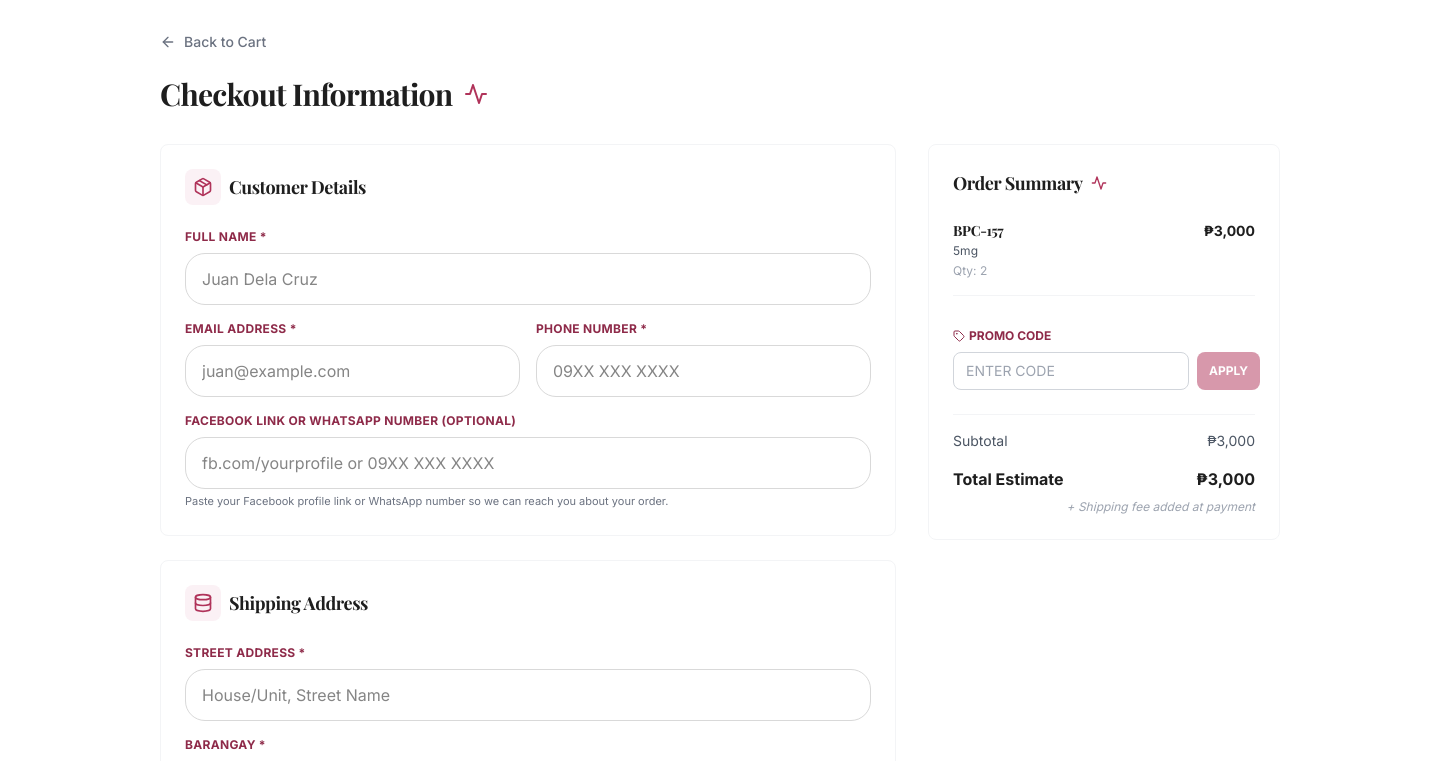
Test: Checkout › promo code › applies valid percentage promo code
The image size is (1440, 761).
Type "SAVE20" into the field with placeholder "ENTER CODE" at (1071, 371), box [953,352,1189,390]
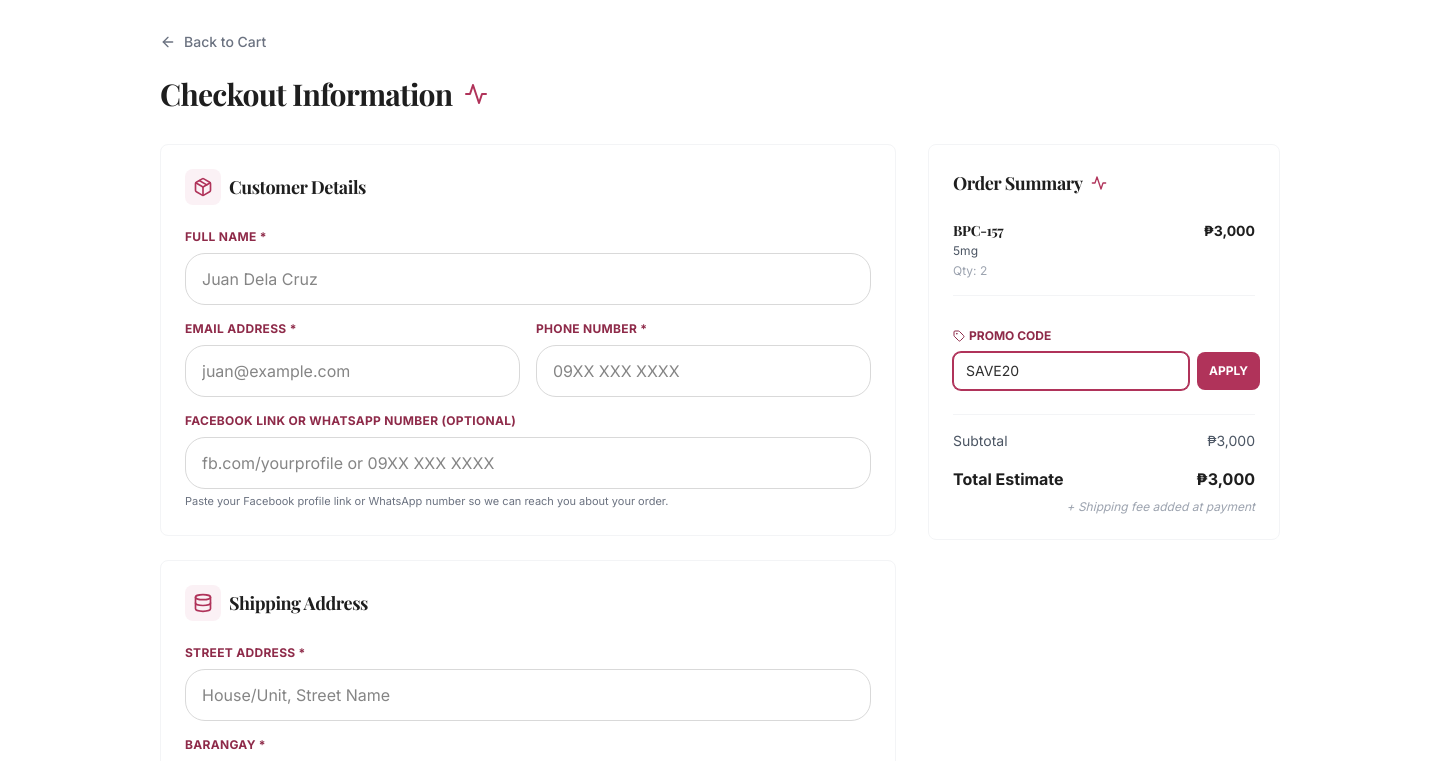
Click the button "APPLY" at (1228, 371), box [1197,352,1260,390]
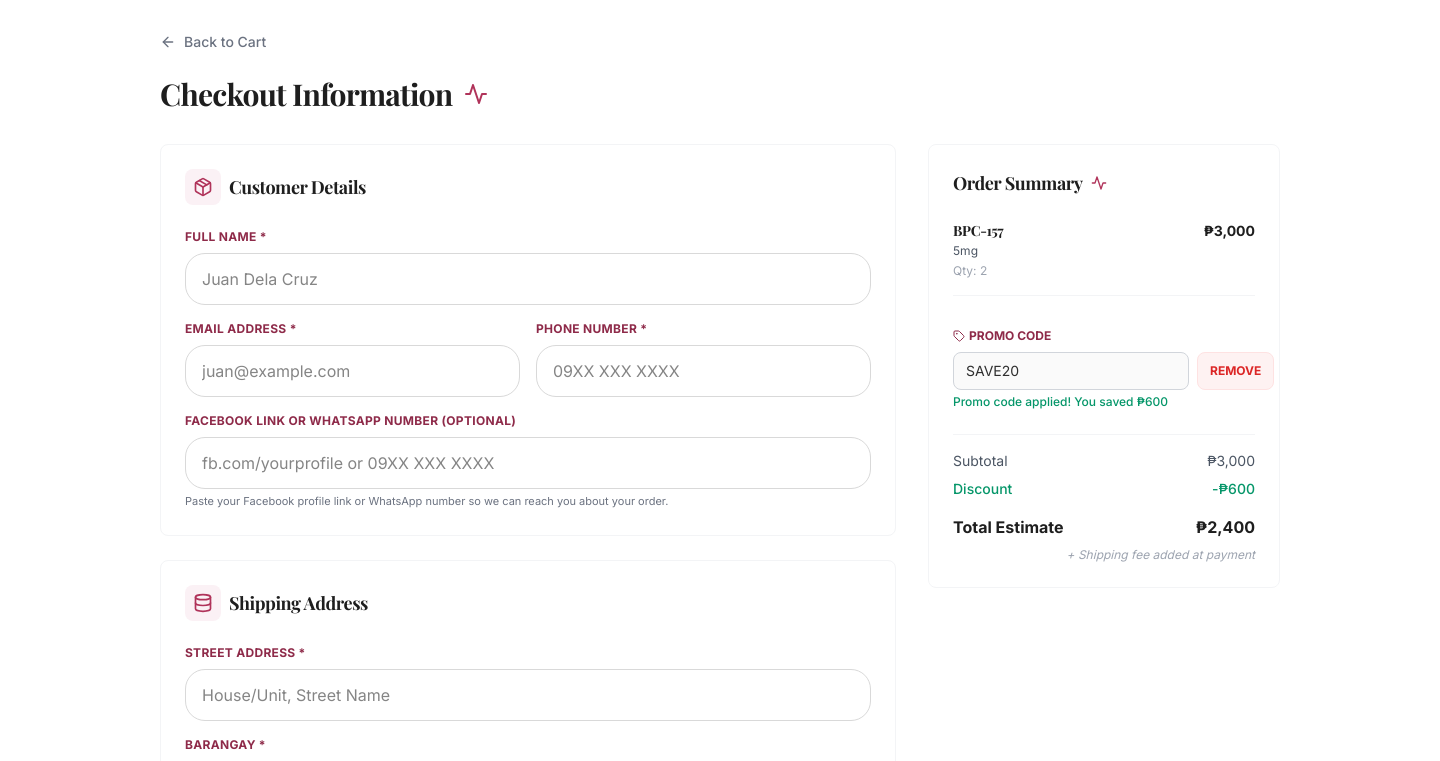
Check: the button "REMOVE" is shown, box [1197,352,1274,390]
Check: the text "Promo code applied! You saved ₱600" is shown, box [953,394,1168,409]
